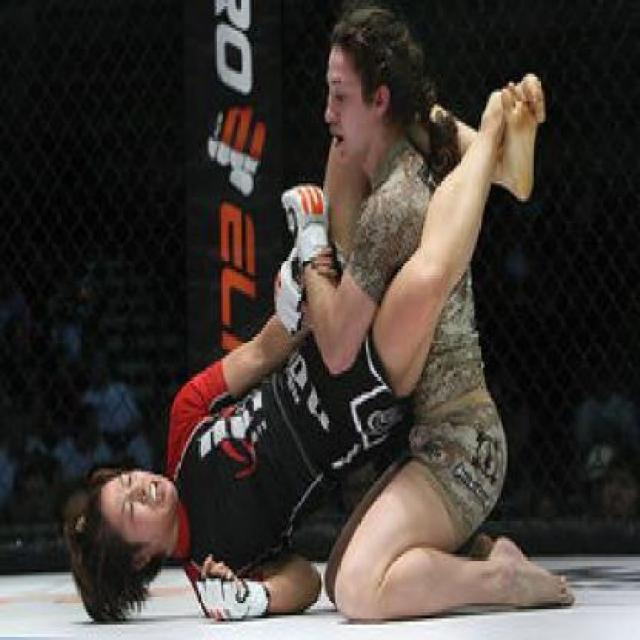fall: (52, 0, 574, 625)
